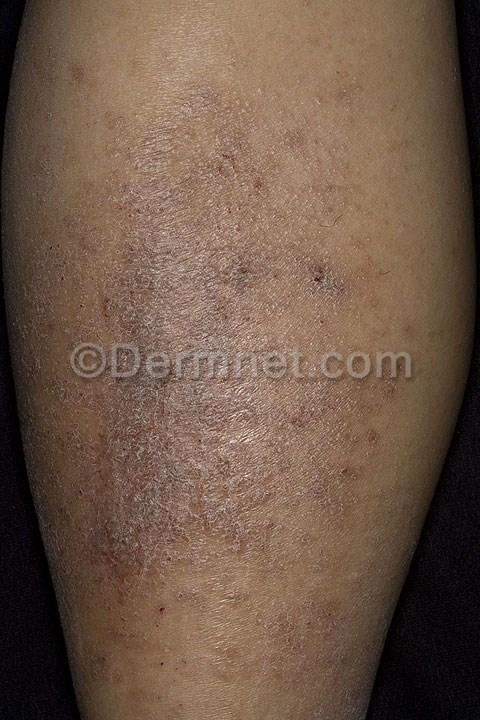Eczema: (87, 407, 357, 591), (94, 204, 358, 327)
